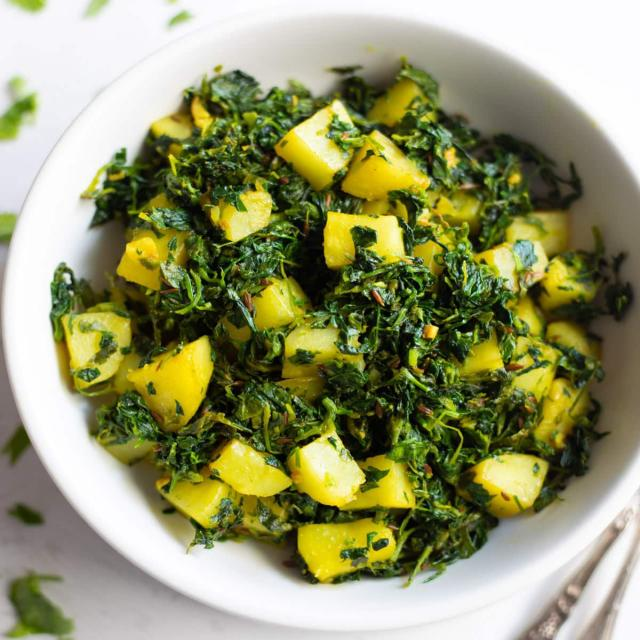Aloo Methi: (90, 61, 624, 583)
